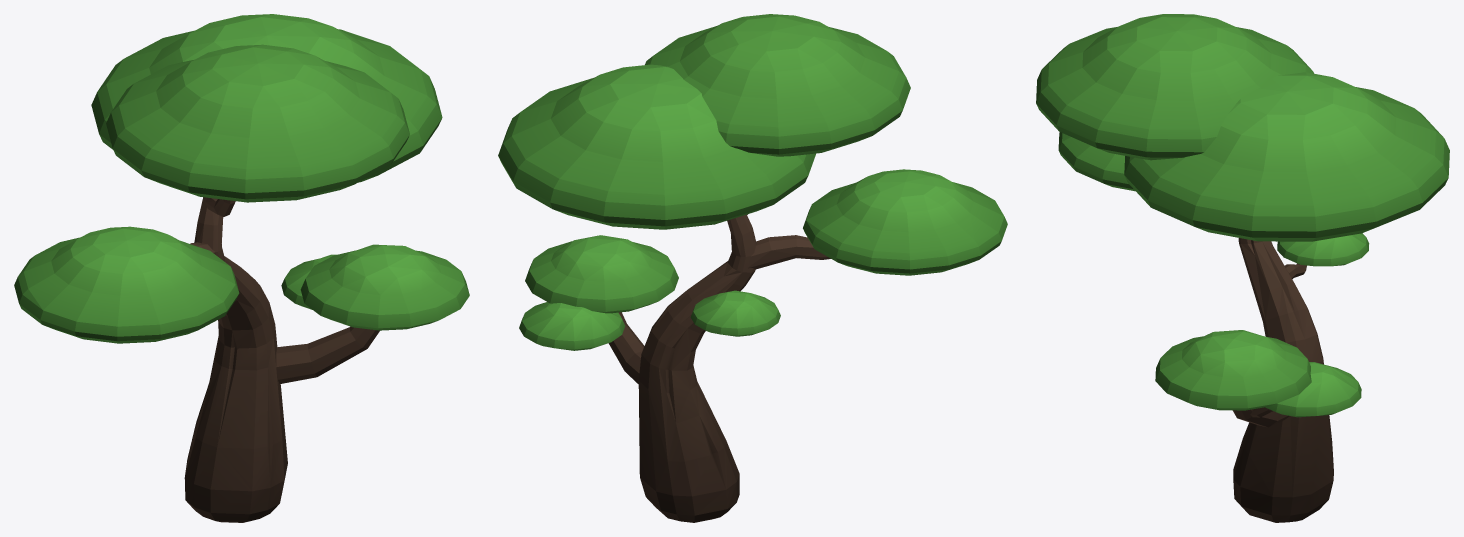
Rendered from tree_giant_ancient.glb.
3 views of the same model, side by side, from view 1: azimuth 30°, elevation 25°; view 2: azimuth 150°, elevation 25°; view 3: azimuth 270°, elevation 25° (orthographic). The views are drawn at different scales.
Parts seen in each view (by area): view 1: tree_giant_ancient; view 2: tree_giant_ancient; view 3: tree_giant_ancient.
Part boxes in pixels (x1,y1,x2,y2): tree_giant_ancient: [14, 14, 469, 522]; tree_giant_ancient: [498, 14, 1007, 522]; tree_giant_ancient: [1036, 14, 1449, 522].
Bounding box in the file's own units: 21.39 × 22 × 17.57.
